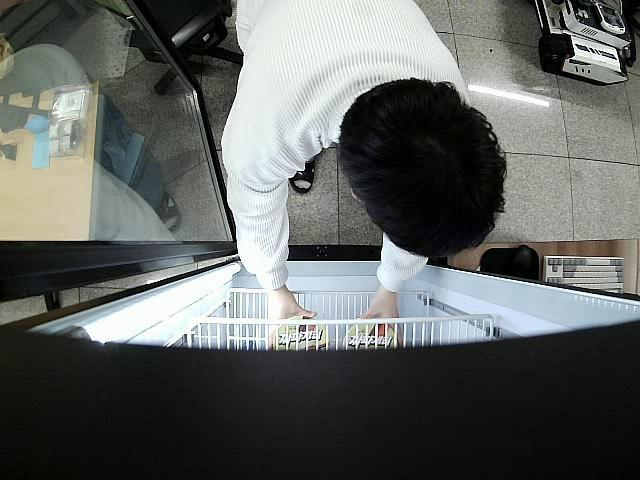03_chapagetti_L: (342, 320, 397, 354), (278, 314, 327, 352)
